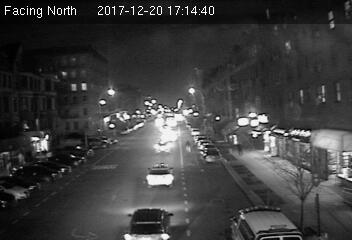car: (125, 207, 172, 240), (145, 162, 175, 186), (203, 149, 220, 163), (153, 141, 170, 153)
police: (227, 203, 306, 240)
